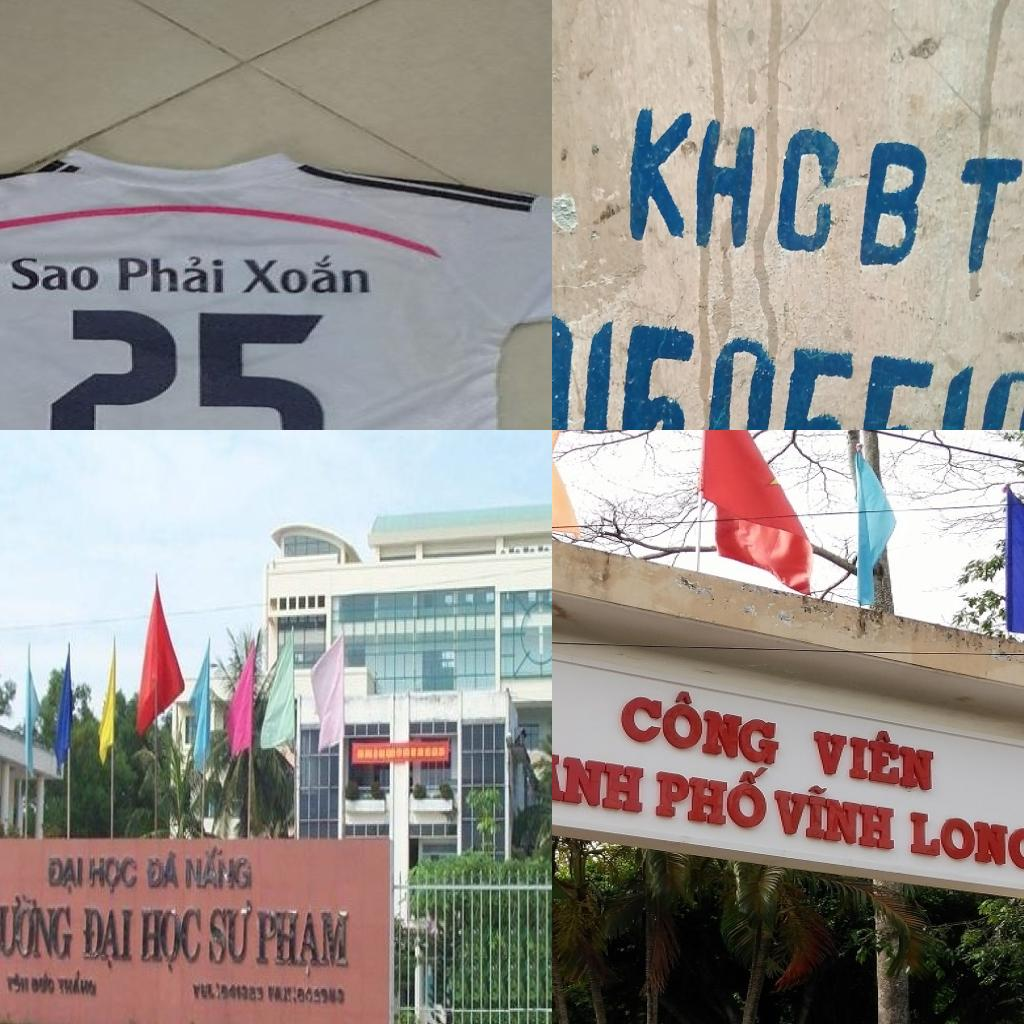text: (552, 290, 1024, 430), (20, 302, 355, 430), (610, 676, 789, 768), (767, 110, 848, 270), (848, 122, 931, 271), (806, 716, 945, 803), (687, 110, 761, 256), (624, 97, 699, 241), (650, 750, 774, 834), (773, 777, 899, 855), (950, 144, 1024, 275), (552, 721, 648, 820), (905, 803, 1024, 878), (230, 249, 376, 303), (254, 906, 352, 981), (104, 246, 232, 296), (0, 888, 75, 964), (0, 251, 107, 296), (139, 904, 204, 974), (80, 902, 135, 976), (207, 895, 255, 968), (87, 853, 140, 900), (146, 846, 183, 894), (47, 855, 85, 898)
